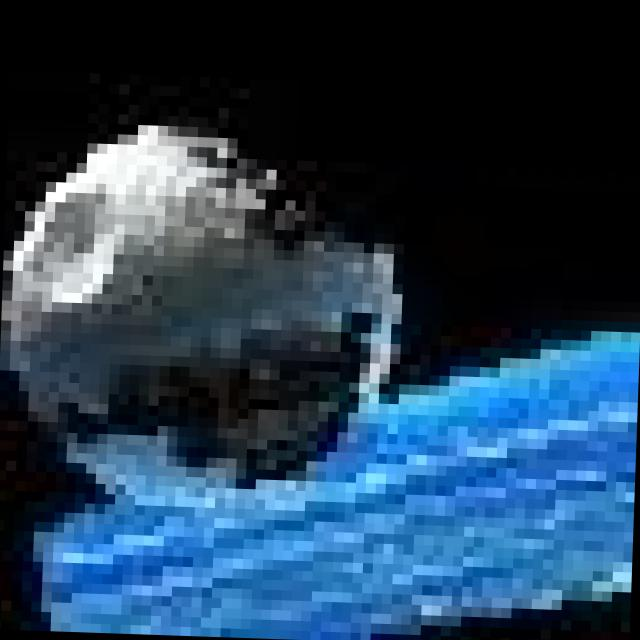Death Star: (0, 94, 399, 522)
